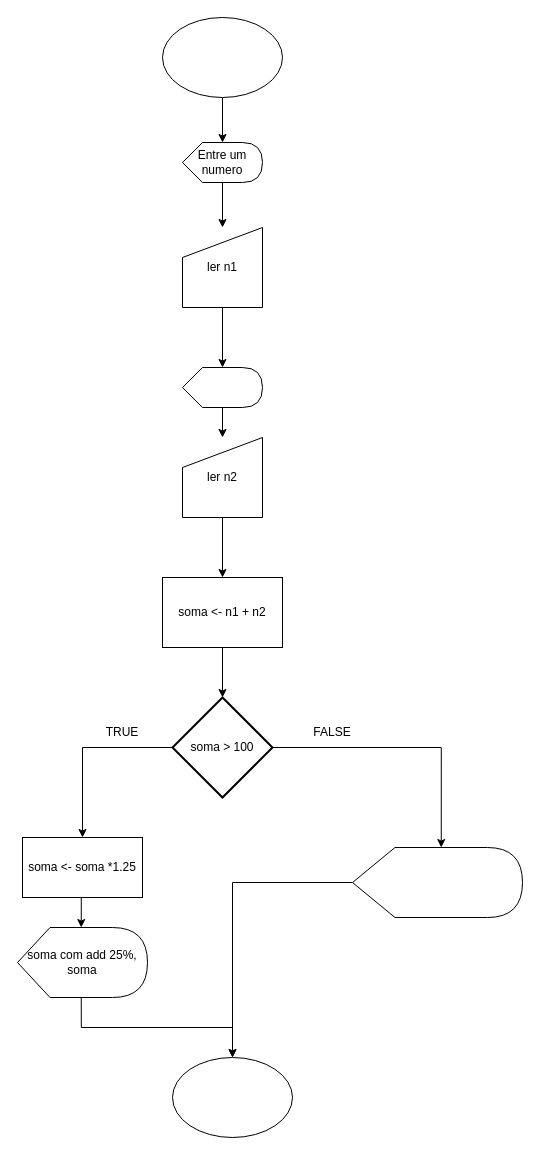
Some shapes in this 540 by 1155 pixel diagram are drawn without their labels. Each missing label, with the centre of its shape:
"entre outro numero" belongs at point (222, 387).
"FIM" belongs at point (232, 1097).
"Início" belongs at point (222, 57).
"Soma sem ddd 25%, soma" belongs at point (437, 882).
